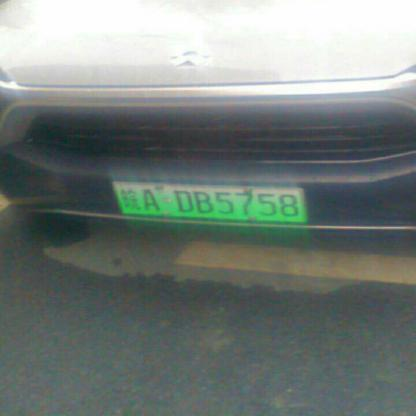lp: (111, 181, 307, 221)
